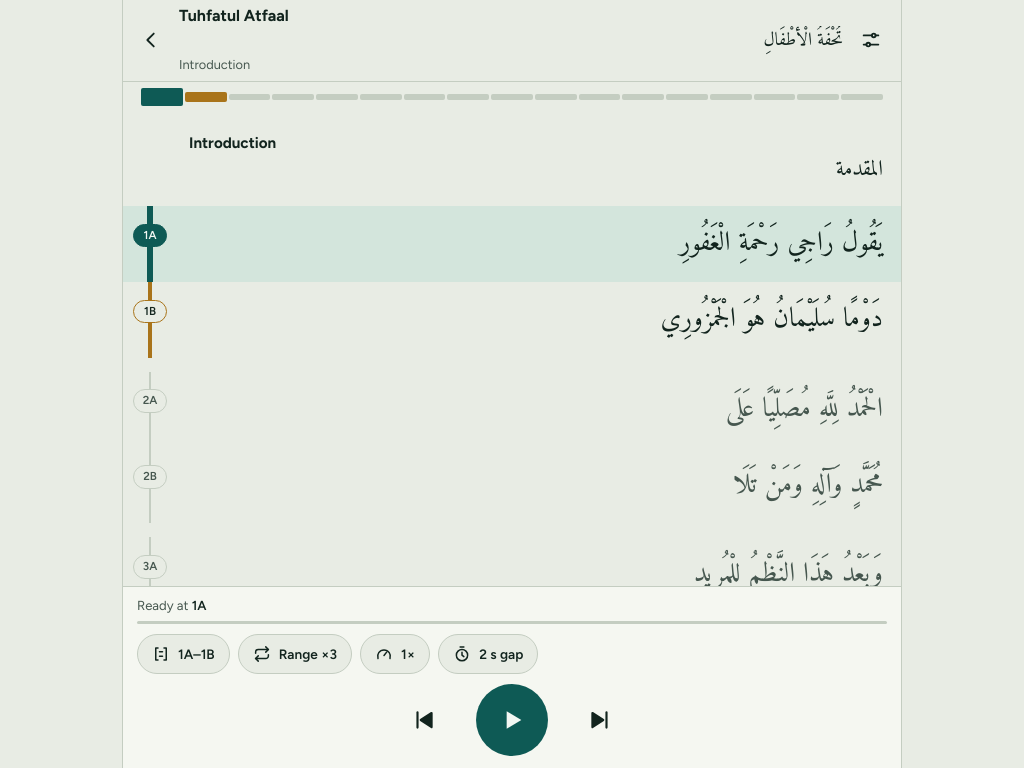
Scenario: Player: playing › tapping a segment selects and plays it
The width and height of the screenshot is (1024, 768).
Expected: the button named "Practice settings" is shown, [849,18,893,62]
What coordinates should you click on to do the following:
click the button with class "tr-row" that starts with "الْحَمْدُ لِلَّهِ مُصَلِّيًا عَلَى"
I would click on:
 (150, 401)
Its box is [123,372,901,448].
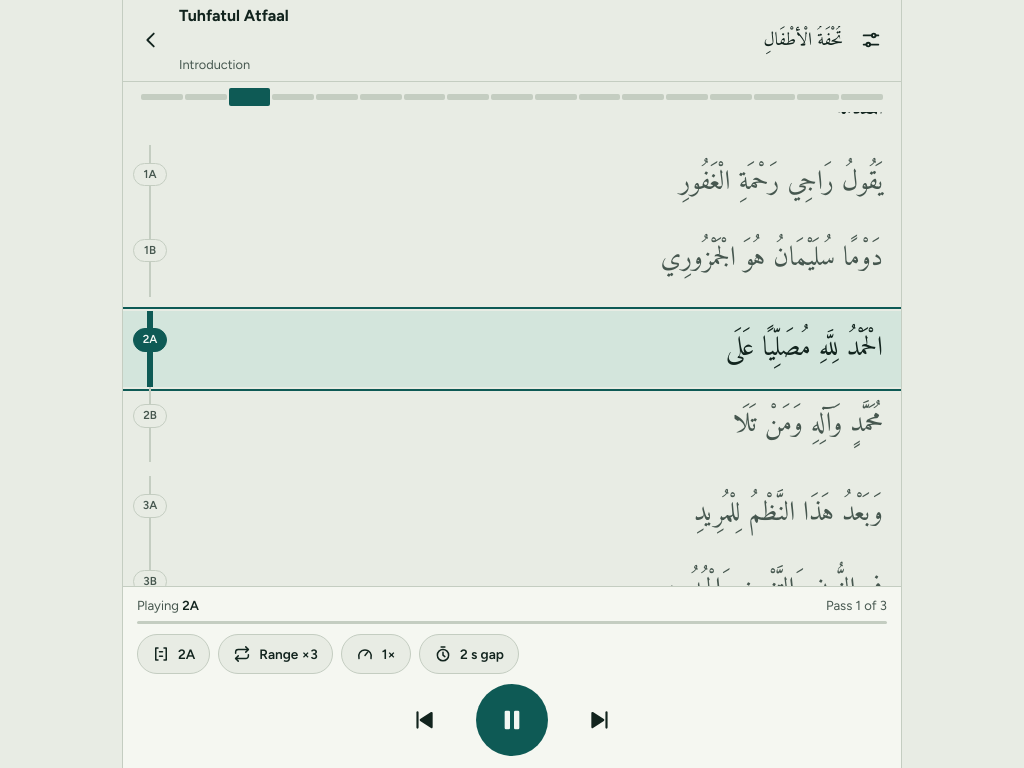
Expected: the button named "Pause" is shown, [476,684,548,756]
